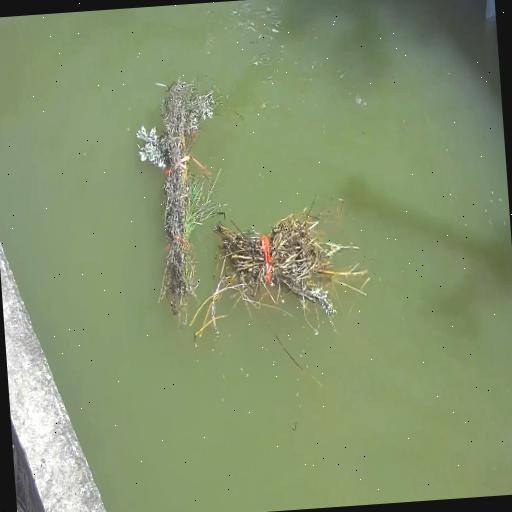twig: (132, 68, 225, 326), (201, 204, 340, 342)
